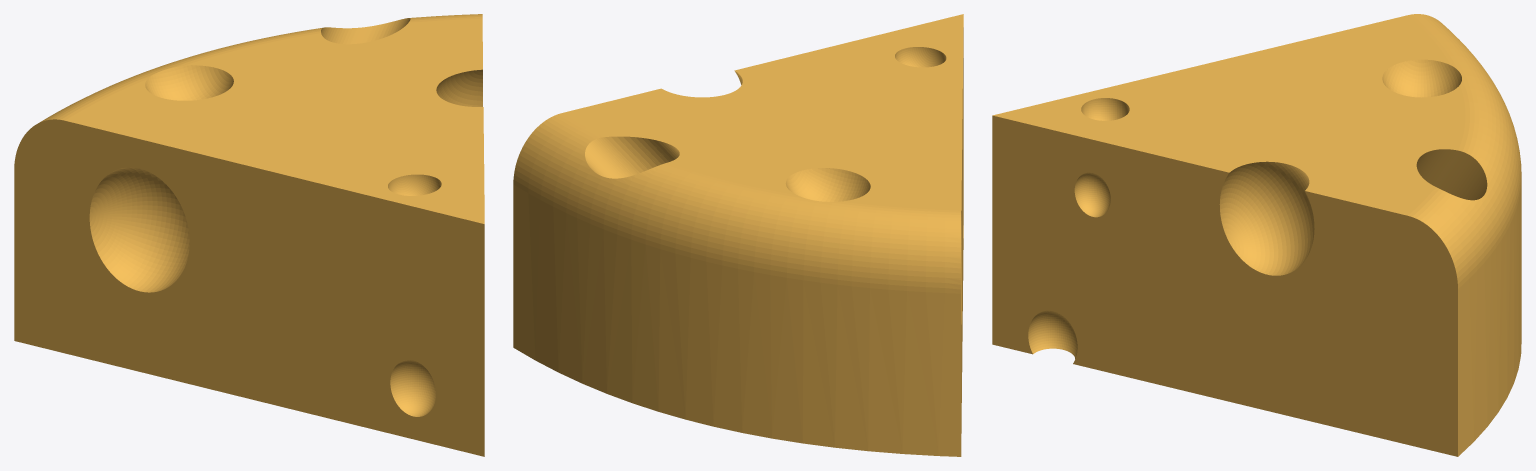
The model's file is block-cheese.fbx.
3 views of the same model, side by side, from view 1: azimuth 30°, elevation 25°; view 2: azimuth 150°, elevation 25°; view 3: azimuth 270°, elevation 25° (orthographic). The views are drawn at different scales.
Parts seen in each view (by area): view 1: Cheese-block-1cm-high; view 2: Cheese-block-1cm-high; view 3: Cheese-block-1cm-high.
Part boxes in pixels (left/top/right/bottom): Cheese-block-1cm-high: left=14, top=14, right=484, bottom=456; Cheese-block-1cm-high: left=513, top=14, right=963, bottom=456; Cheese-block-1cm-high: left=992, top=14, right=1521, bottom=456.
Bounding box in the file's own units: 253 × 120 × 251.
